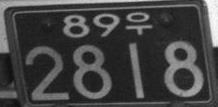1: (119, 42, 152, 98)
2: (24, 44, 70, 102)
8: (162, 39, 205, 97), (71, 43, 112, 100), (61, 13, 90, 38)
9: (92, 12, 121, 37)
우: (124, 11, 153, 35)
